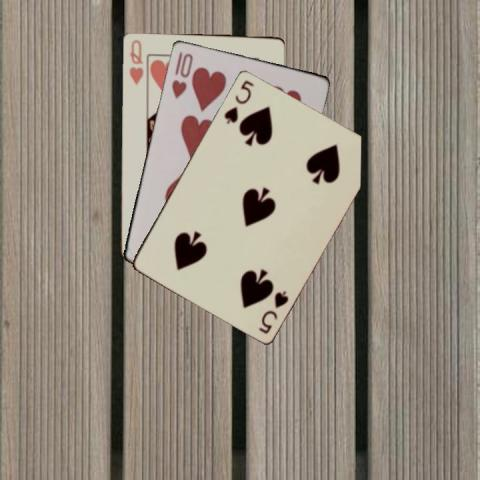10h: (168, 48, 195, 100)
5s: (255, 287, 290, 335), (221, 77, 255, 125)
Qh: (126, 36, 145, 87)
